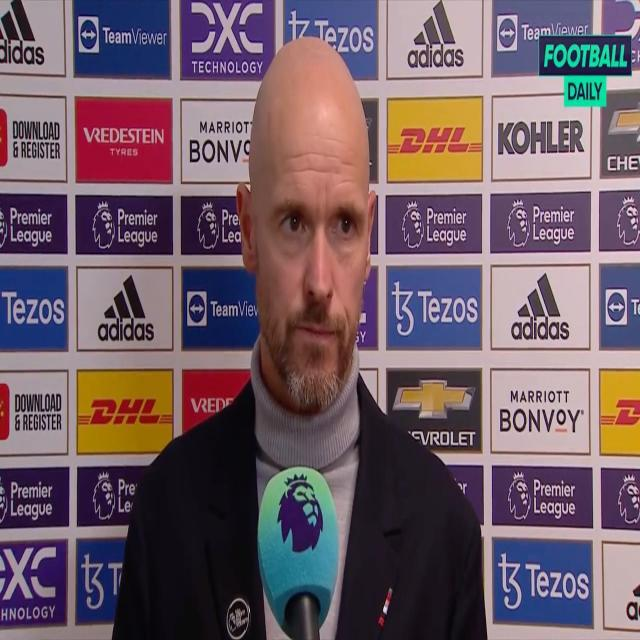Adidas: (407, 0, 466, 71), (511, 272, 570, 342), (97, 273, 155, 344)
Chevrolet: (393, 374, 477, 451)
Kohler: (497, 117, 585, 156)
TeamViewer: (79, 17, 168, 55)
